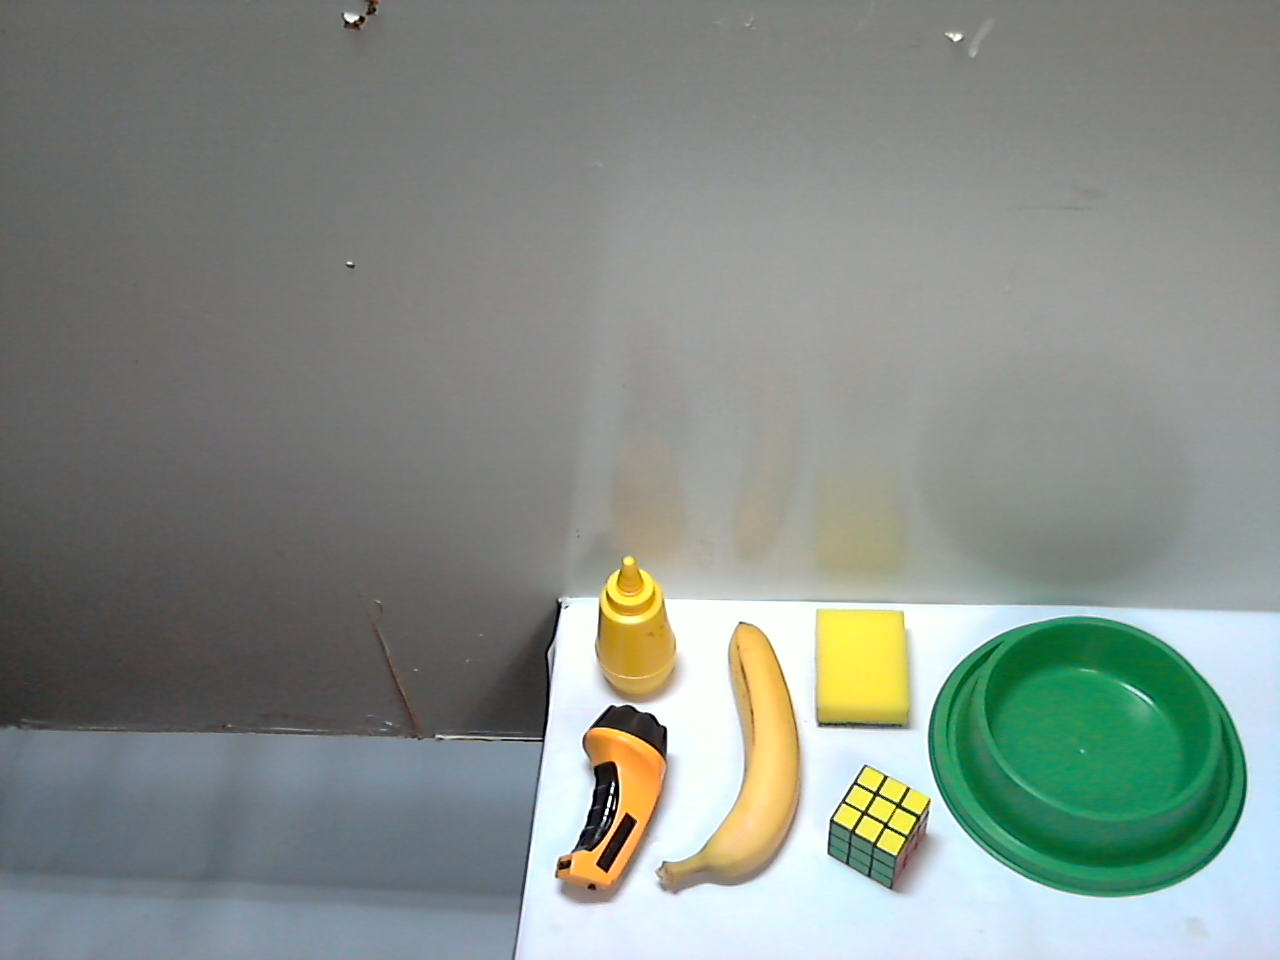cloroplano: (961, 551, 1185, 845)
estuche: (720, 651, 963, 795)
mostaza: (870, 729, 985, 894)
pepino: (754, 866, 1140, 960)
pescado: (617, 778, 854, 937)
sarten: (392, 609, 741, 960)
